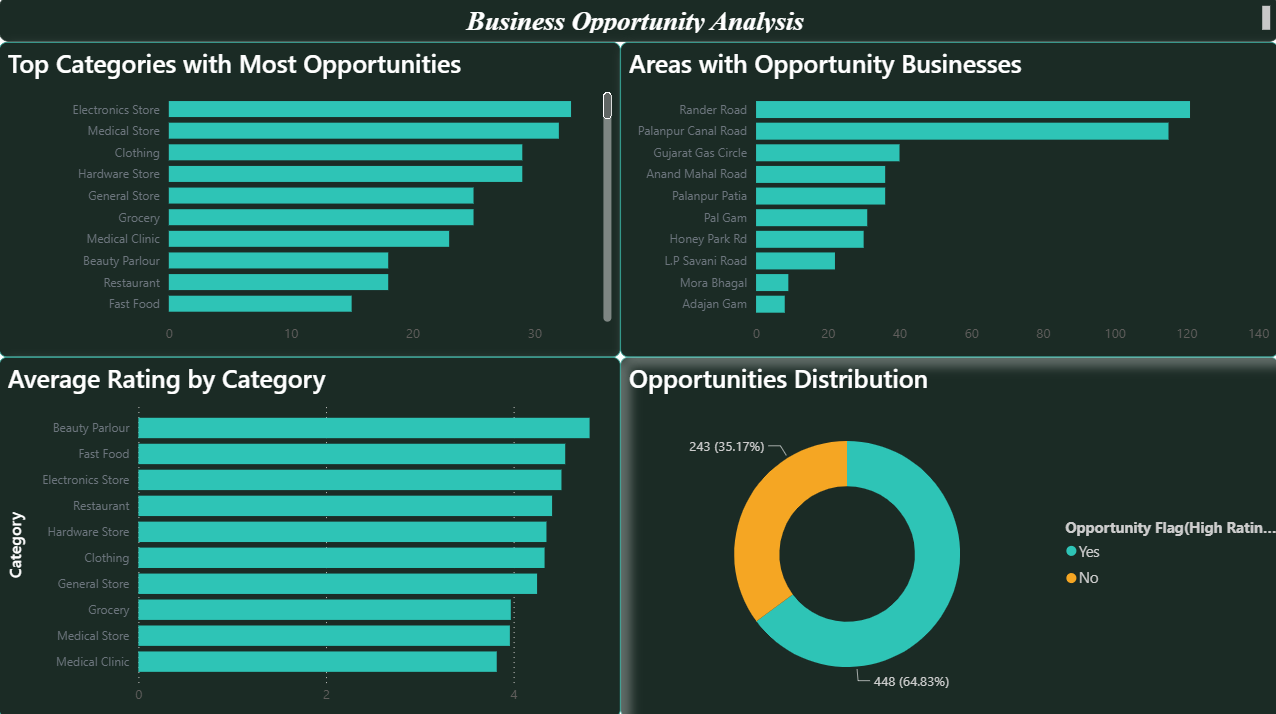

The dashboard page shown, as its layout file describes it:
{"tool":"powerbi","page":{"name":"Page 3","canvas":[1280,720],"ordinal":2},"visuals":[{"type":"textbox","box":[0,0,1280.3,45.1],"z":0},{"type":"clusteredBarChart","title":"Top Categories with Most Opportunities","fields":{"Category":["Cleaned_Surat_Business_Dataset.Category"],"Y":["CountNonNull(Cleaned_Surat_Business_Dataset.Shop Name)"]},"box":[0,44.6,621.6,314.9],"z":1000},{"type":"donutChart","title":"Opportunities Distribution","fields":{"Category":["Cleaned_Surat_Business_Dataset.Opportunity Flag(High Rating + No Website)"],"Y":["CountNonNull(Cleaned_Surat_Business_Dataset.Shop Name)"]},"box":[621.6,359.5,658.1,360.8],"z":2000},{"type":"clusteredBarChart","title":"Areas with Opportunity Businesses","fields":{"Category":["Cleaned_Surat_Business_Dataset.Address/Street"],"Y":["CountNonNull(Cleaned_Surat_Business_Dataset.Shop Name)"]},"box":[621.6,44.6,658.1,314.9],"z":3000},{"type":"clusteredBarChart","fields":{"Category":["Cleaned_Surat_Business_Dataset.Category"],"Y":["Cleaned_Surat_Business_Dataset.Average Rating"]},"box":[0,359.5,621.6,360.8],"z":4000}]}

Visuals, with their boxes in screenshot pixels (x1, y1, x2, y2), scaled from the page's 1280x720 canvas onto the 1276x714 screenshot:
textbox: l=0, t=0, r=1275, b=45
"Top Categories with Most Opportunities" clusteredBarChart: l=0, t=44, r=620, b=357
"Opportunities Distribution" donutChart: l=620, t=357, r=1275, b=713
"Areas with Opportunity Businesses" clusteredBarChart: l=620, t=44, r=1275, b=357
clusteredBarChart - Cleaned_Surat_Business_Dataset.Category x Cleaned_Surat_Business_Dataset.Average Rating: l=0, t=357, r=620, b=713
